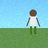person: (27, 9, 39, 34)
